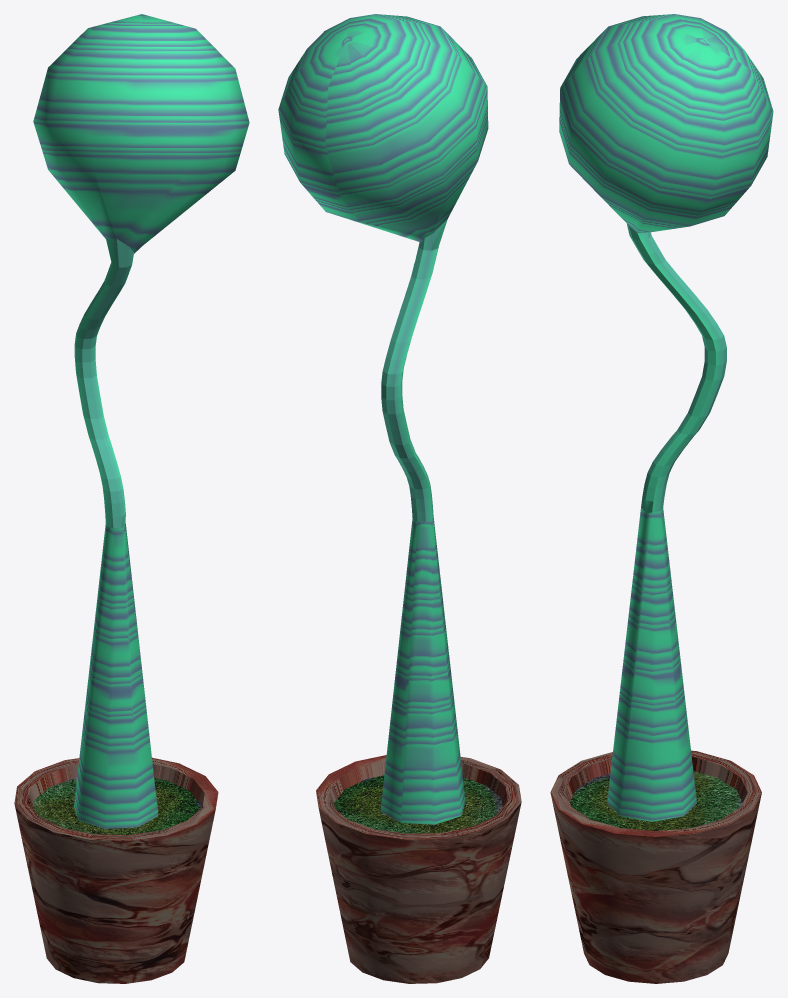
The model's file is Tree2.FBX.
3 views of the same model, side by side, from view 1: azimuth 30°, elevation 25°; view 2: azimuth 150°, elevation 25°; view 3: azimuth 270°, elevation 25° (orthographic). The views are drawn at different scales.
Parts seen in each view (by area): view 1: Sphere001; view 2: Sphere001; view 3: Sphere001.
Part boxes in pixels (left/top/right/bottom): Sphere001: left=14, top=14, right=249, bottom=983; Sphere001: left=278, top=14, right=521, bottom=983; Sphere001: left=550, top=14, right=773, bottom=983.
Bounding box in the file's own units: 73.73 × 310 × 66.22.
Materials: 3 (3 with a texture image).
